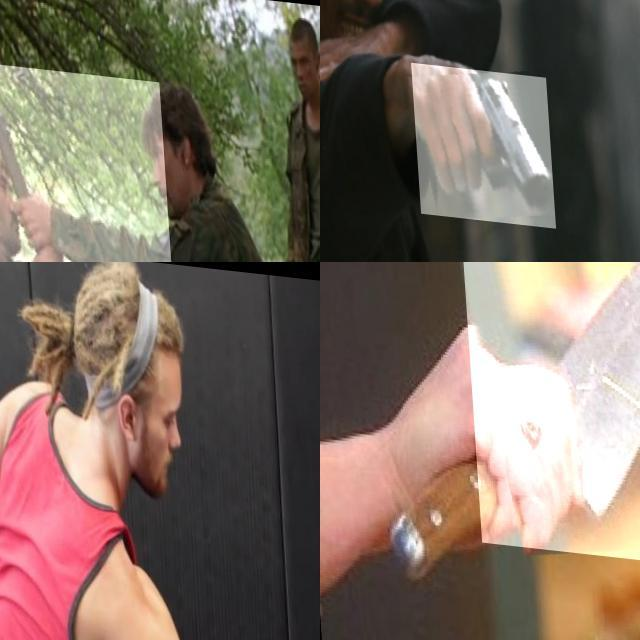-: (457, 262, 640, 562)
gun-knife-thesis - v11 Yolov5 augmented: (0, 59, 186, 262), (406, 56, 550, 219)
